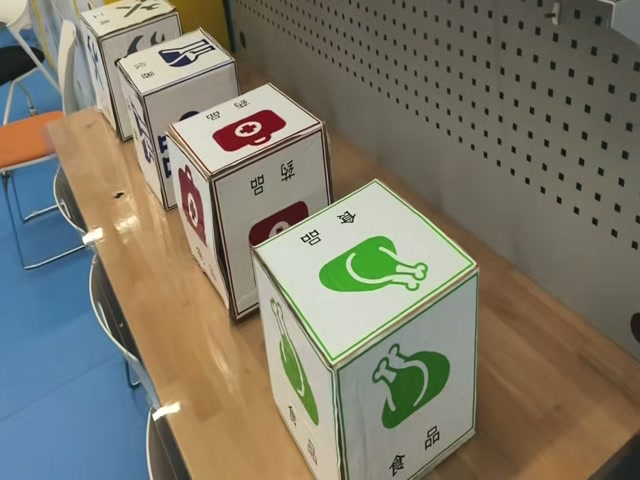Cube_food: (255, 184, 485, 381)
Cube_ins: (116, 30, 231, 97)
Cube_medicine: (168, 80, 329, 179)
Cube_tool: (81, 0, 177, 42)
